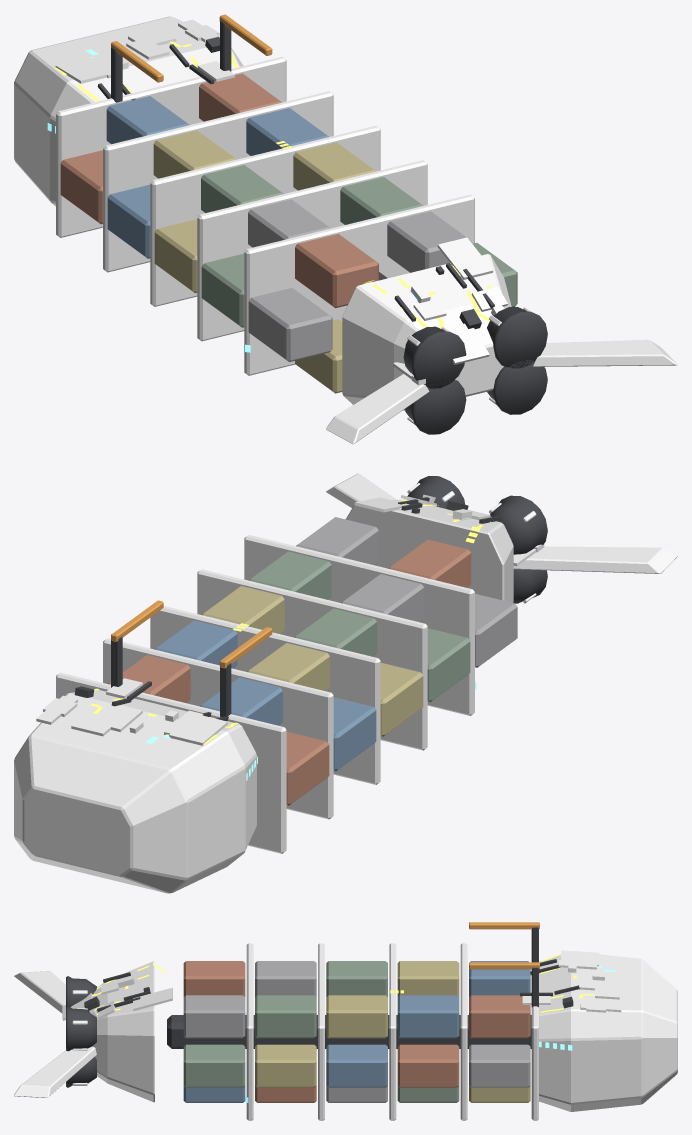
The model's file is kit.glb.
3 renders of one model, top to bottom at view 1: azimuth 30°, elevation 25°; view 2: azimuth 150°, elevation 25°; view 3: azimuth 270°, elevation 25°, orthographic. The views are drawn at different scales.
Visible parts, largest first — view 1: Голова, Хвост, Рама.004, Рама.001, Рама.003, Рама.002, Рама, Накладные_плиты, Контейнер.029, Контейнер.025, Лопасть, Контейнер.024 (+21 smaller); view 2: Голова, Рама.003, Рама.004, Хвост, Рама.002, Рама.001, Рама, Накладные_плиты, Лопасть.001, Контейнер.013, Контейнер.019, Контейнер.025 (+17 smaller); view 3: Голова, Хвост, Накладные_плиты, Хребет, Контейнер.006, Контейнер.010, Контейнер.024, Контейнер.028, Контейнер.012, Контейнер.016, Контейнер.018, Контейнер.022 (+27 smaller).
Part boxes in pixels (x1,y1,x2,y2): Голова: (14,16,243,206); Хвост: (342,254,511,410); Рама.004: (244,194,474,375); Рама.001: (103,91,333,272); Рама.003: (197,160,427,341); Рама.002: (150,125,380,306); Рама: (56,56,286,237); Накладные_плиты: (55,19,507,385); Контейнер.029: (248,288,332,362); Контейнер.025: (295,234,378,308); Лопасть: (533,339,677,366); Контейнер.024: (387,211,471,272); Голова: (14,690,256,893); Рама.003: (197,569,427,750); Рама.004: (244,535,474,715); Хвост: (345,499,513,602); Рама.002: (150,606,380,784); Рама.001: (103,638,333,819); Рама: (56,672,286,853); Накладные_плиты: (36,494,544,745); Лопасть.001: (513,546,677,573); Контейнер.013: (294,608,377,656); Контейнер.019: (341,574,424,622); Контейнер.025: (388,539,471,587); Голова: (539,954,677,1111); Хвост: (92,961,154,1102); Накладные_плиты: (62,950,621,1020); Хребет: (167,1015,531,1048); Контейнер.006: (397,995,459,1038); Контейнер.010: (397,1044,459,1087); Контейнер.024: (183,995,245,1038); Контейнер.028: (183,1044,245,1087); Контейнер.012: (326,995,387,1038); Контейнер.016: (326,1044,387,1087); Контейнер.018: (255,995,316,1038); Контейнер.022: (255,1044,316,1087).
Size of the model in its own units: 1.23 by 0.6525 by 2.79.
